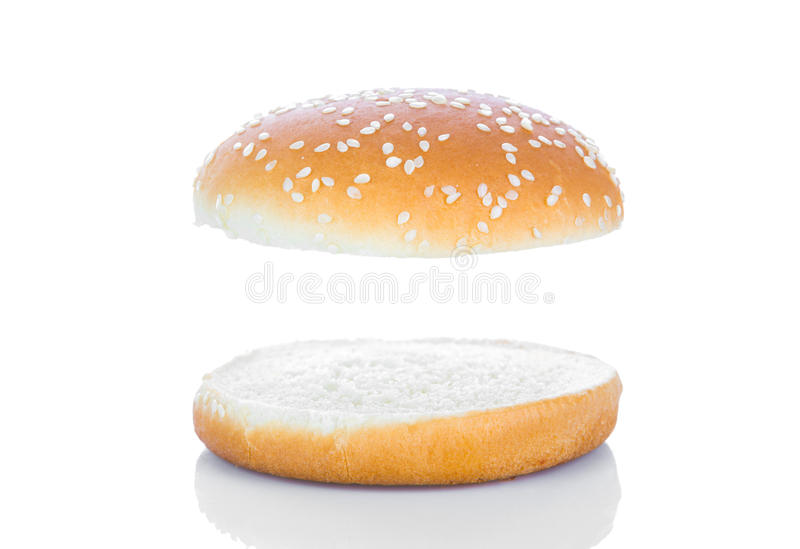hamburger_buns: (149, 63, 639, 509)
